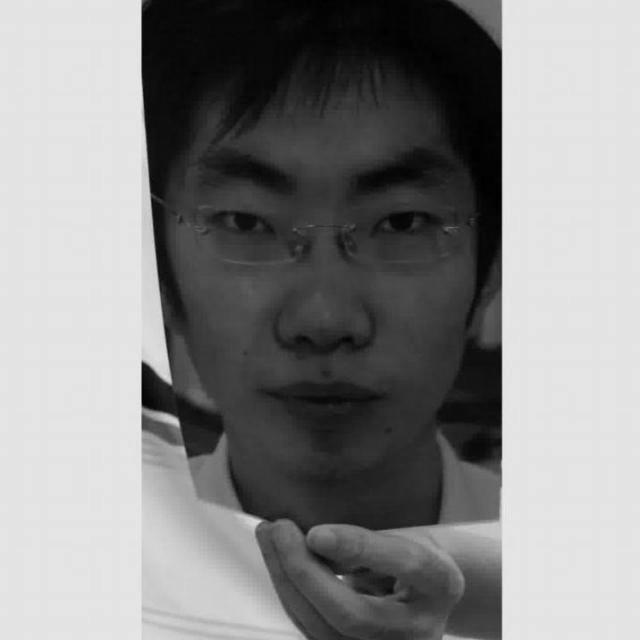fake: (140, 0, 502, 535)
